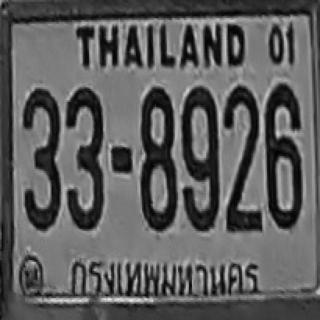N00: (182, 86, 218, 176)
N03: (22, 88, 61, 230), (66, 86, 103, 230), (22, 103, 60, 230)
N08: (140, 85, 177, 229)
N09: (181, 111, 218, 229)
P04: (65, 247, 259, 299)
